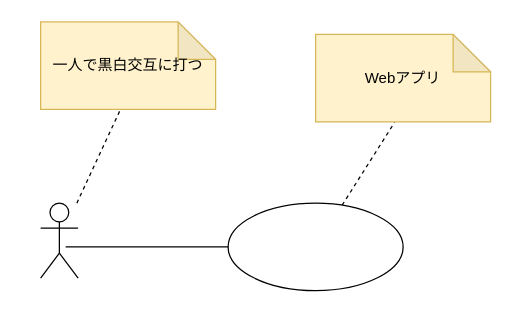
The diagram is 513 pixels wide and 326 high, and some of its shapes have lost their labels. The centre of each missing label's shape, as x and y in pixels:
プレイヤー: point 58,240
リバーシ アプリケーション: point 315,246
